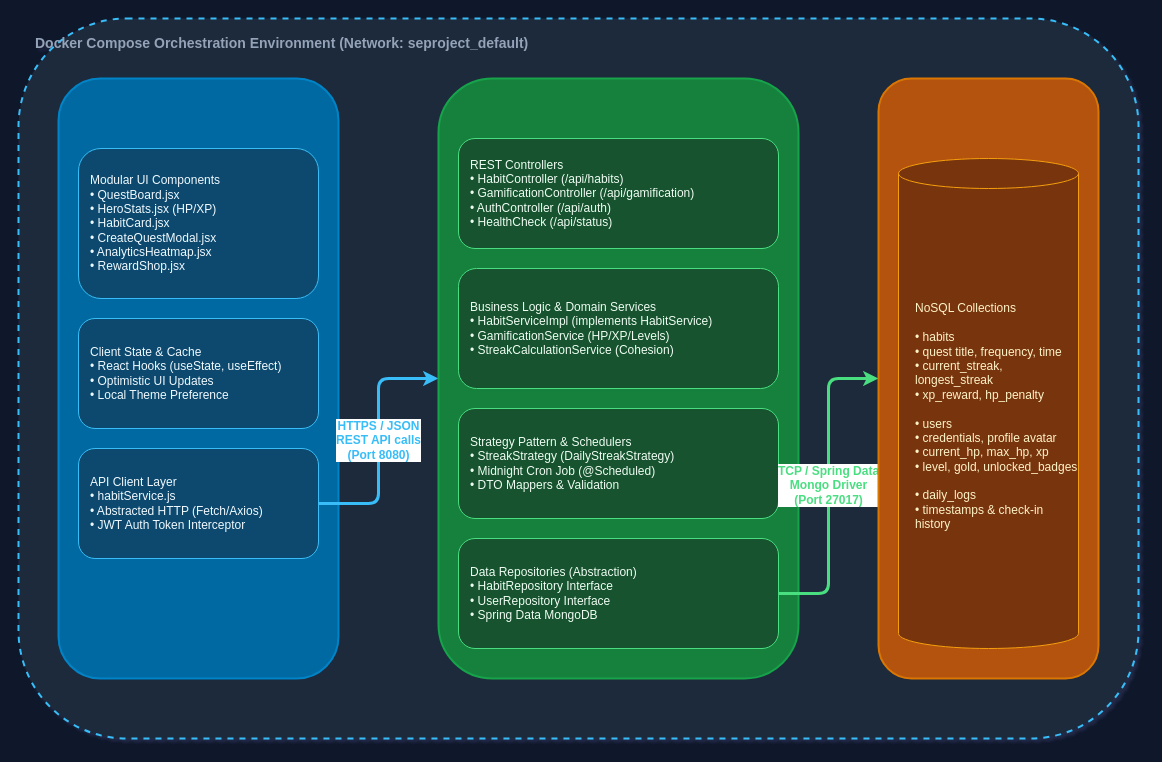
The diagram is 1162 pixels wide and 762 high, and some of its shapes have lost their labels. Each missing label, with the box of its shape:
Application Tier (Server) Spring Boot REST API (Port: 8080): (437, 77, 799, 679)
Client / Presentation Tier React 18 + Vite (Port: 5173): (57, 77, 339, 679)
Data Persistence Tier MongoDB Document Database (Port: 27017): (877, 77, 1099, 679)
